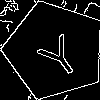Y: (30, 25, 86, 82)
